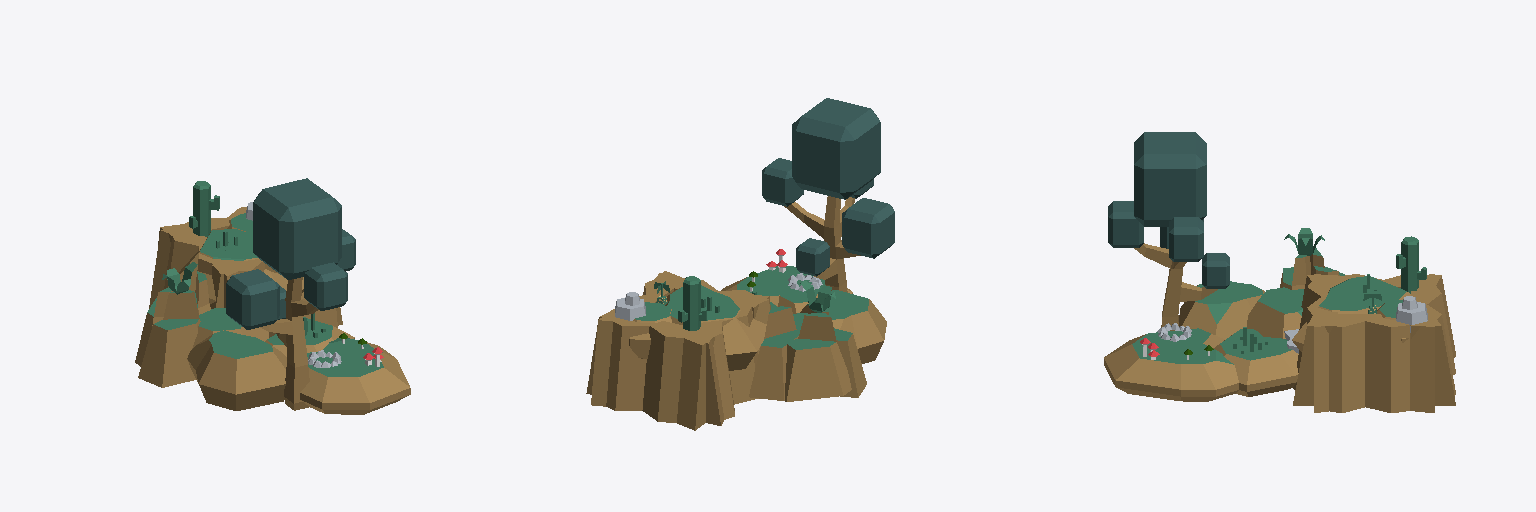
The model's file is StoneModel2.obj.
3 views of the same model, side by side, from view 1: azimuth 30°, elevation 25°; view 2: azimuth 150°, elevation 25°; view 3: azimuth 270°, elevation 25° (orthographic).
Bounding box in the file's own units: 6 × 5.86 × 8.79.